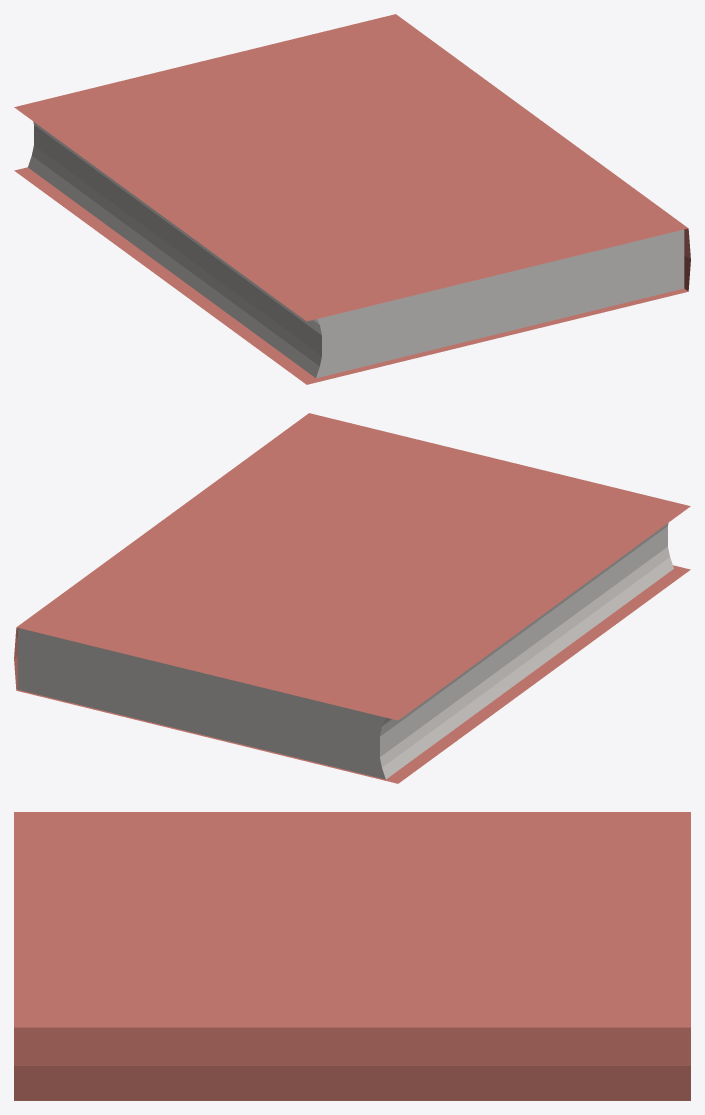
The model's file is book.fbx.
3 views of the same model, one above another, from view 1: azimuth 30°, elevation 25°; view 2: azimuth 150°, elevation 25°; view 3: azimuth 270°, elevation 25° (orthographic). The views are drawn at different scales.
Visible parts, largest first — view 1: Cube; view 2: Cube; view 3: Cube.
Boxes of the visible parts, box(x1,y1,x2,y2) form: Cube: box(14, 14, 690, 384); Cube: box(14, 413, 690, 783); Cube: box(14, 812, 690, 1100).
Size of the model in its own units: 15.15 by 2.39 by 20.
